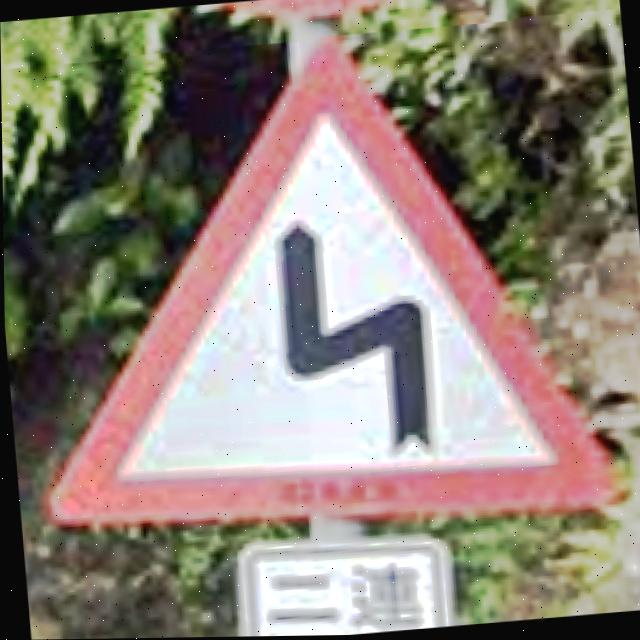doublebendleft: (47, 32, 618, 530)
